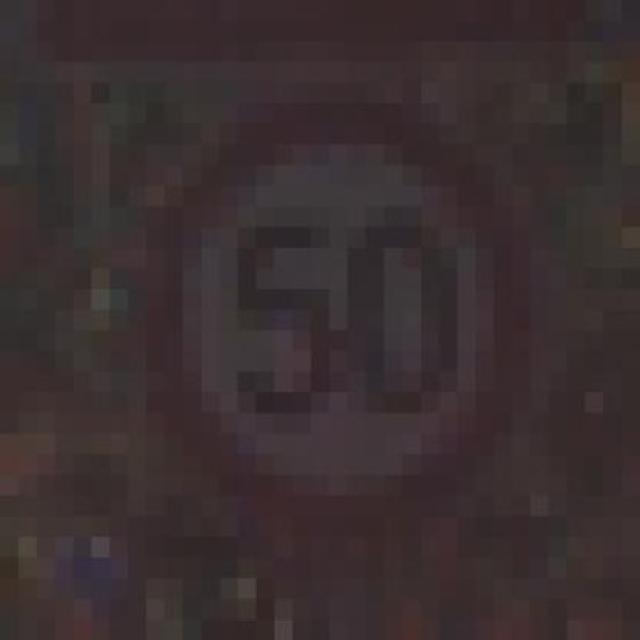50 mph speed limit: (110, 62, 567, 516)
